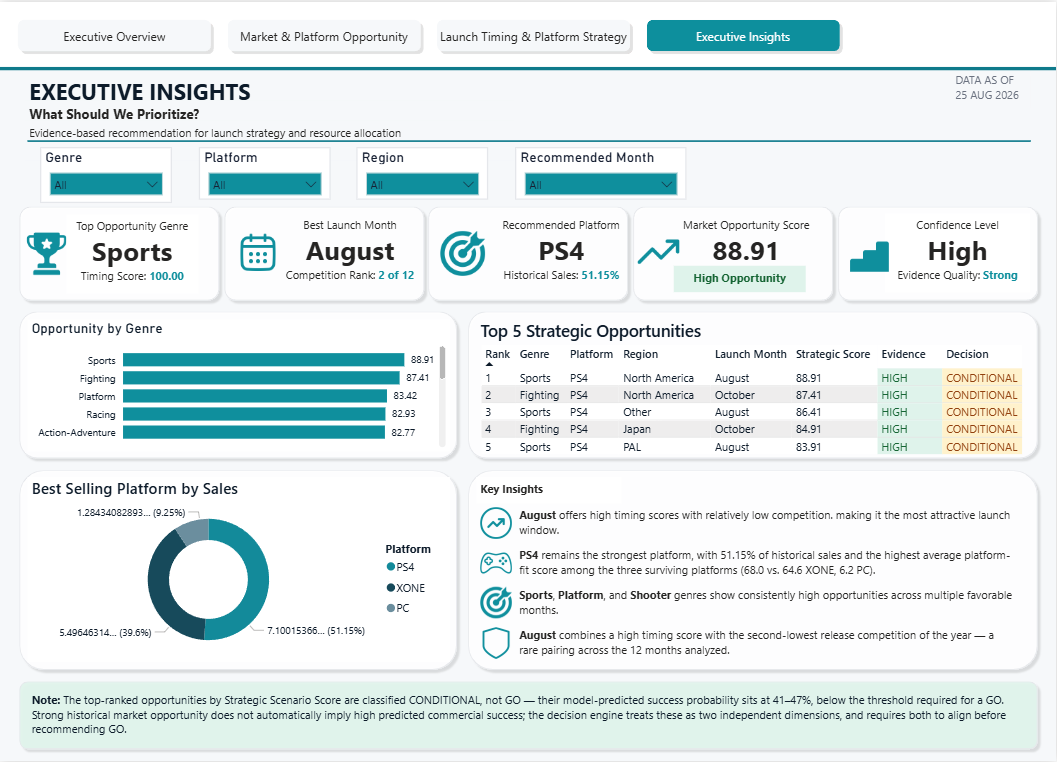

This screenshot's page, from the dashboard's own definition file:
{"tool":"powerbi","page":{"name":"Executive Insights","canvas":[1280,920],"ordinal":3},"visuals":[{"type":"textbox","box":[30,84,600,45],"z":0},{"type":"slicer","title":"Genre","fields":{"Values":["DimGenre.Genre"]},"box":[48,176,160,68],"z":0,"group":"g2"},{"type":"shape","box":[16,240,256,128],"z":0,"group":"g4"},{"type":"shape","box":[0,0,1280,80],"z":500,"group":"g1"},{"type":"group","id":"g1","title":"Group 4","box":[0,0,1280,88],"z":1000},{"type":"slicer","title":"Recommended Month","fields":{"Values":["DimMonth.Month Name"]},"box":[624,176,208,64],"z":1000,"group":"g2"},{"type":"shape","box":[264,240,256,128],"z":1000},{"type":"image","box":[16,272,80,64],"z":1000,"group":"g4"},{"type":"pageNavigator","box":[16,16,1008,48],"z":1001,"group":"g1"},{"type":"slicer","title":"Platform","fields":{"Values":["DimPlatform.Platform"]},"box":[240,176,160,64],"z":2000,"group":"g2"},{"type":"shape","box":[512,240,256,128],"z":2000},{"type":"textbox","box":[80,256,160,96],"z":2000,"group":"g4"},{"type":"slicer","title":"Region","fields":{"Values":["DimRegion.Region"]},"box":[432,176,160,64],"z":3000,"group":"g2"},{"type":"shape","box":[1008,240,256,128],"z":3000},{"type":"shape","box":[760,240,256,128],"z":4000},{"type":"textbox","box":[336,256,176,96],"z":5000},{"type":"shape","box":[0,72,1280,16],"z":6000,"group":"g1"},{"type":"textbox","box":[592,256,176,96],"z":6000},{"type":"shape","box":[560,368,704,192],"z":6000,"group":"g3"},{"type":"textbox","box":[1072,256,176,96],"z":7000},{"type":"textbox","box":[816,256,176,80],"z":8000},{"type":"shape","box":[16,368,544,192],"z":9000},{"type":"textbox","box":[30,119,592,48],"z":10000},{"type":"textbox","box":[30,144,592,48],"z":11000},{"type":"shape","box":[32,160,1216,16],"z":12000},{"type":"textbox","box":[1152,80,96,48],"z":13000},{"type":"tableEx","title":"Top 5 Strategic Opportunities","fields":{"Values":["_Measures.Scenario Rank2","phase5_scenario_score.genre","phase5_scenario_score.platform","phase5_scenario_score.region","DimMonth.Month Name","phase5_scenario_score.strategic_scenario_score","phase5_scenario_score.market_evidence_quality","phase5_final_launch_decision.final_decision"]},"box":[576,384,672,176],"z":14000,"group":"g3"},{"type":"shape","box":[16,560,544,256],"z":14000},{"type":"group","id":"g2","title":"Group 5","box":[48,176,784,64],"z":15000},{"type":"clusteredBarChart","title":"Opportunity by Genre","fields":{"Category":["phase5_scenario_score.genre"],"Y":["Max(phase5_scenario_score.strategic_scenario_score)"]},"box":[32,384,512,160],"z":16000},{"type":"shape","box":[560,560,704,256],"z":17000},{"type":"group","id":"g3","title":"Group 3","box":[560,368,704,192],"z":18000},{"type":"donutChart","title":"Best Selling Platform by Sales","fields":{"Category":["DimPlatform.Platform"],"Y":["Sum(phase2_genre_platform_fit.avg_sales)"]},"box":[32,576,512,224],"z":19000},{"type":"image","box":[576,608,48,48],"z":20000},{"type":"image","box":[576,656,48,48],"z":21000},{"type":"image","box":[576,688,48,80],"z":22000},{"type":"image","box":[576,752,48,48],"z":23000},{"type":"textbox","box":[576,576,176,32],"z":24000},{"type":"textbox","box":[624,608,624,48],"z":25000},{"type":"textbox","box":[624,656,608,48],"z":26000},{"type":"textbox","box":[624,704,640,48],"z":27000},{"type":"textbox","box":[624,752,608,48],"z":28000},{"type":"group","id":"g4","title":"Group 1","box":[16,240,256,128],"z":29000},{"type":"image","box":[272,272,80,64],"z":30000},{"type":"image","box":[528,272,64,64],"z":31000},{"type":"image","box":[768,272,60,60],"z":32000},{"type":"image","box":[1008,272,90,72],"z":33000},{"type":"textbox","box":[816,320,160,32],"z":34000},{"type":"shape","box":[16,816,1248,96],"z":35000},{"type":"textbox","box":[32,832,1216,64],"z":36000}]}

Visuals, with their boxes in screenshot pixels (x1, y1, x2, y2), scaled from the page's 1280x920 canvas onto the 1057x762 screenshot:
textbox: l=25, t=70, r=520, b=107
"Genre" slicer: l=40, t=146, r=172, b=202
shape: l=13, t=199, r=225, b=305
shape: l=0, t=0, r=1056, b=66
"Group 4" group: l=0, t=0, r=1056, b=73
"Recommended Month" slicer: l=515, t=146, r=687, b=199
shape: l=218, t=199, r=429, b=305
image: l=13, t=225, r=79, b=278
pageNavigator: l=13, t=13, r=846, b=53
"Platform" slicer: l=198, t=146, r=330, b=199
shape: l=423, t=199, r=634, b=305
textbox: l=66, t=212, r=198, b=292
"Region" slicer: l=357, t=146, r=489, b=199
shape: l=832, t=199, r=1044, b=305
shape: l=628, t=199, r=839, b=305
textbox: l=277, t=212, r=423, b=292
shape: l=0, t=60, r=1056, b=73
textbox: l=489, t=212, r=634, b=292
shape: l=462, t=305, r=1044, b=464
textbox: l=885, t=212, r=1031, b=292
textbox: l=674, t=212, r=819, b=278
shape: l=13, t=305, r=462, b=464
textbox: l=25, t=99, r=514, b=138
textbox: l=25, t=119, r=514, b=159
shape: l=26, t=133, r=1031, b=146
textbox: l=951, t=66, r=1031, b=106
"Top 5 Strategic Opportunities" tableEx: l=476, t=318, r=1031, b=464
shape: l=13, t=464, r=462, b=676
"Group 5" group: l=40, t=146, r=687, b=199
"Opportunity by Genre" clusteredBarChart: l=26, t=318, r=449, b=451
shape: l=462, t=464, r=1044, b=676
"Group 3" group: l=462, t=305, r=1044, b=464
"Best Selling Platform by Sales" donutChart: l=26, t=477, r=449, b=663
image: l=476, t=504, r=515, b=543
image: l=476, t=543, r=515, b=583
image: l=476, t=570, r=515, b=636
image: l=476, t=623, r=515, b=663
textbox: l=476, t=477, r=621, b=504
textbox: l=515, t=504, r=1031, b=543
textbox: l=515, t=543, r=1017, b=583
textbox: l=515, t=583, r=1044, b=623
textbox: l=515, t=623, r=1017, b=663
"Group 1" group: l=13, t=199, r=225, b=305
image: l=225, t=225, r=291, b=278
image: l=436, t=225, r=489, b=278
image: l=634, t=225, r=684, b=275
image: l=832, t=225, r=907, b=285
textbox: l=674, t=265, r=806, b=292
shape: l=13, t=676, r=1044, b=755
textbox: l=26, t=689, r=1031, b=742
